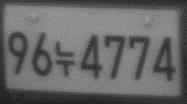4: (151, 36, 177, 83), (79, 34, 102, 78)
6: (31, 33, 53, 77)
7: (127, 35, 151, 80), (103, 34, 125, 79)
9: (7, 31, 29, 76)
누: (53, 40, 77, 77)
